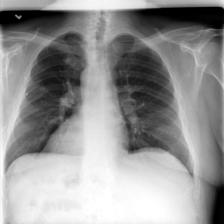normal: (3, 32, 197, 182)
